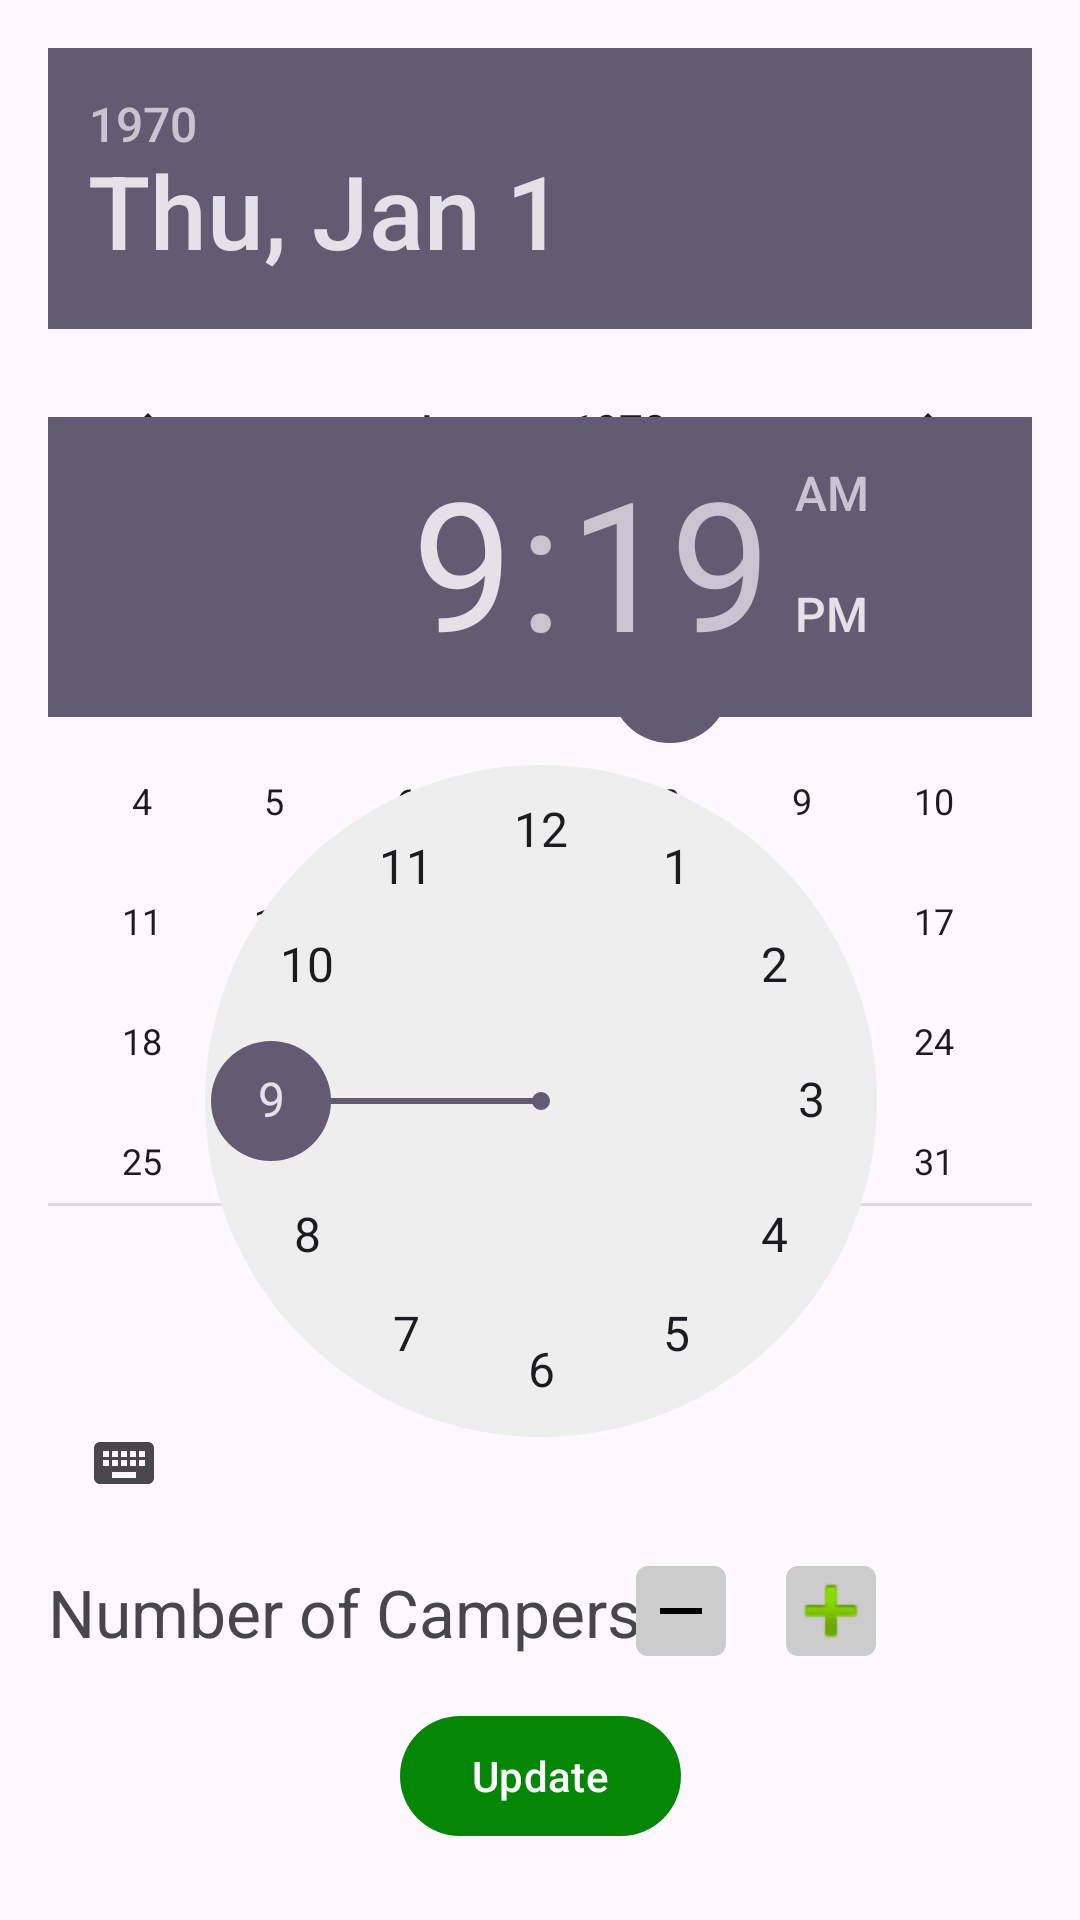

Where to tap for icons on this 1080w x 1920h app screen, as (x,y):
add: (831,1611)
minus: (681,1611)
